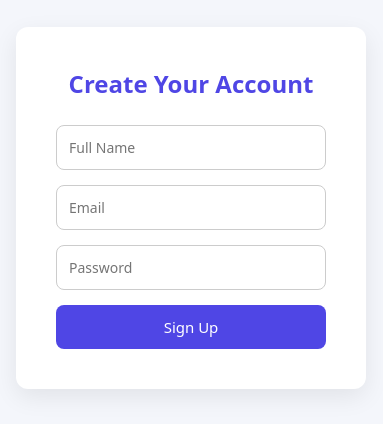
Test: shows User already exists and allows retrying signup
The width and height of the screenshot is (383, 424).
Type "Test User" into the field labelled "Full Name". click: (191, 148)
box: [56,125,326,170]
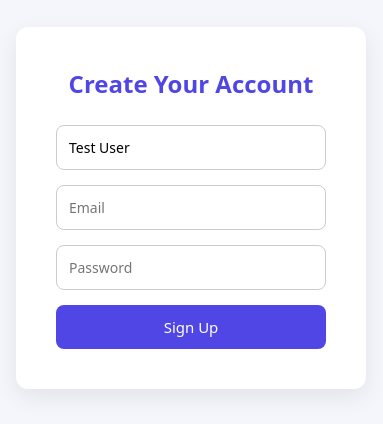
Type "test@example.com" into the field labelled "Email". click: (191, 208)
box: [56,185,326,230]
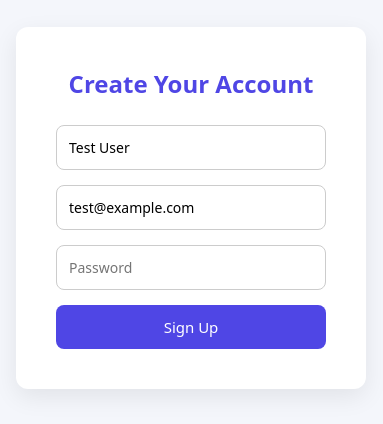
Type "test-password" into the password field labelled "Password". click: (191, 268)
box: [56,245,326,290]
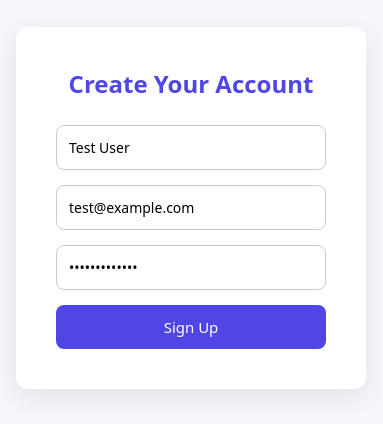
Click the button "Sign Up". click: (191, 327)
box: [56,305,326,349]
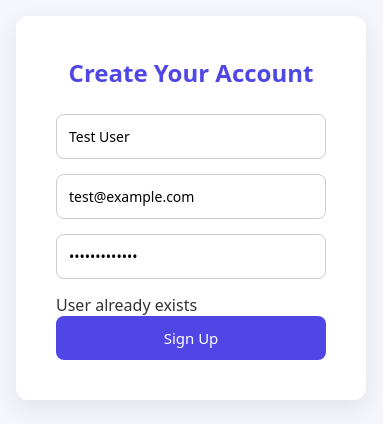
Result: the message reads "User already exists" at [56,294,197,316]
Click the button "Sign Up". click: (191, 338)
box: [56,316,326,360]
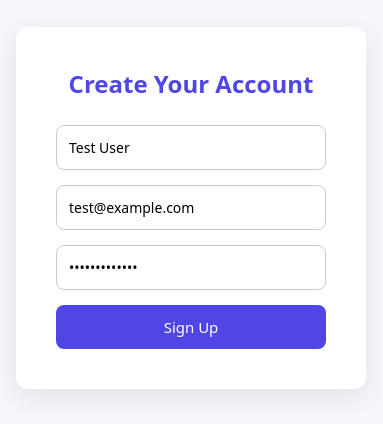
Result: the message "User already exists" is gone
